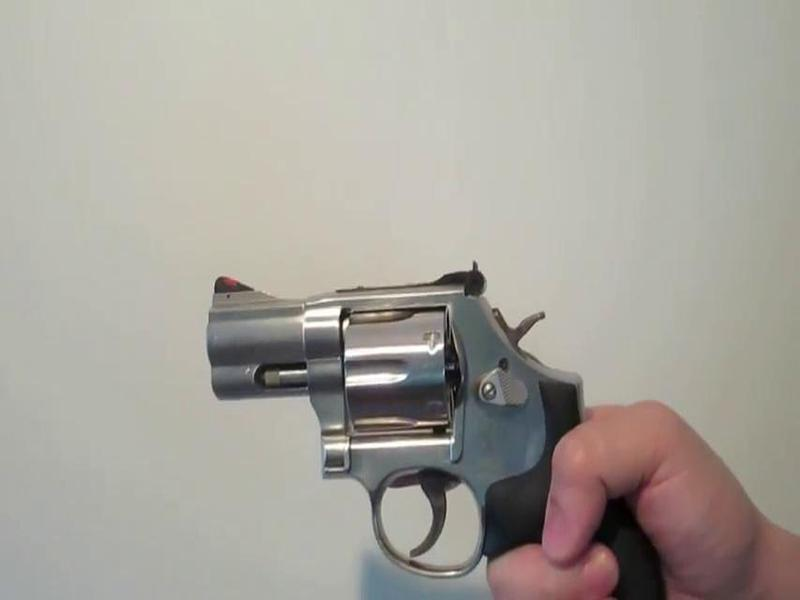Revolver: (195, 243, 712, 600)
